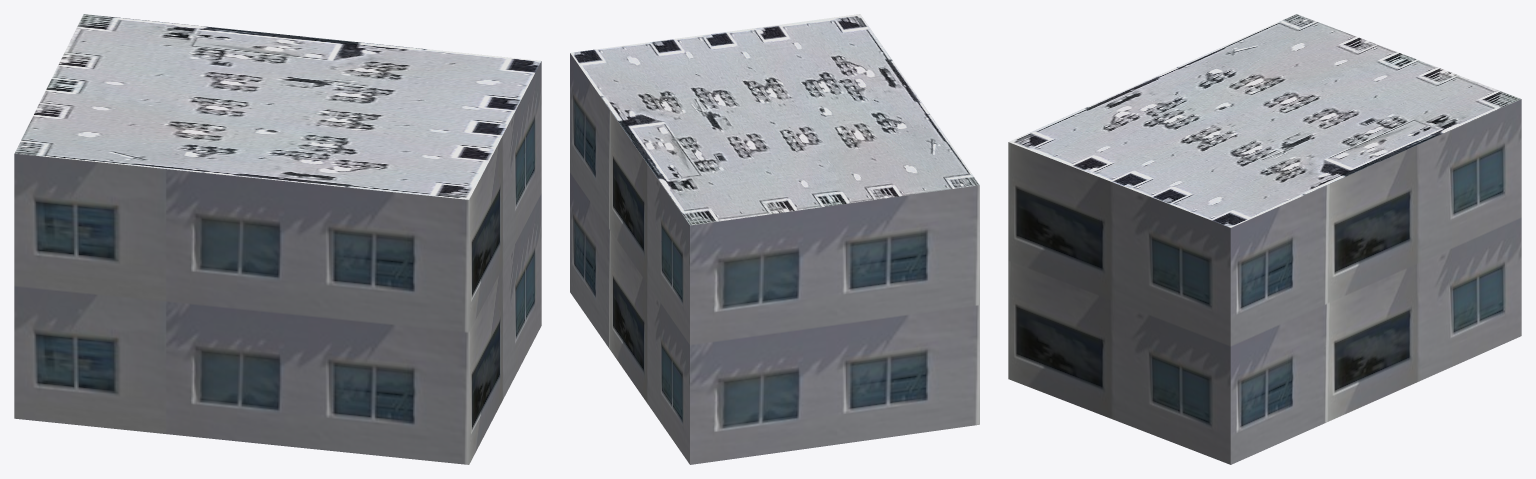
The model's file is ResTex__84.fbx.
3 renders of one model, left to right at view 1: azimuth 30°, elevation 25°; view 2: azimuth 150°, elevation 25°; view 3: azimuth 270°, elevation 25°, orthographic. The views are drawn at different scales.
Visible parts, largest first — view 1: CityEngineMaterial_10_m, CityEngineMaterial_m; view 2: CityEngineMaterial_10_m, CityEngineMaterial_m; view 3: CityEngineMaterial_10_m, CityEngineMaterial_m.
Boxes of the visible parts, x1=… form: CityEngineMaterial_10_m: x1=14, y1=61, x2=541, y2=464; CityEngineMaterial_m: x1=14, y1=14, x2=541, y2=199; CityEngineMaterial_10_m: x1=570, y1=53, x2=979, y2=464; CityEngineMaterial_m: x1=570, y1=14, x2=979, y2=225; CityEngineMaterial_10_m: x1=1008, y1=99, x2=1521, y2=464; CityEngineMaterial_m: x1=1009, y1=14, x2=1520, y2=227.
Bounding box in the file's own units: 11.61 × 6 × 11.77.
2 materials, 2 textured.
